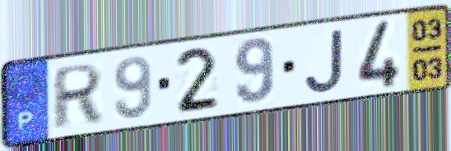2: (173, 45, 222, 116)
4: (356, 17, 404, 91)
9: (232, 34, 277, 108), (112, 54, 155, 122)
J: (302, 26, 346, 95)
R: (49, 60, 106, 132)
